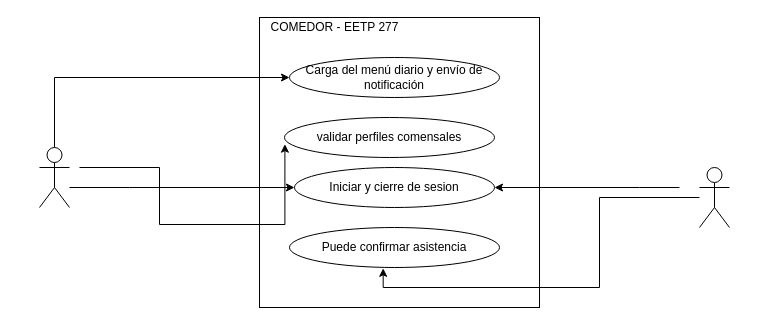
This 759x325 diagram has some shape labels left out. Each missing label, with the centre of its shape:
"Administrativo del comedor" goes at point 54,177.
"Comensal" goes at point 714,197.
